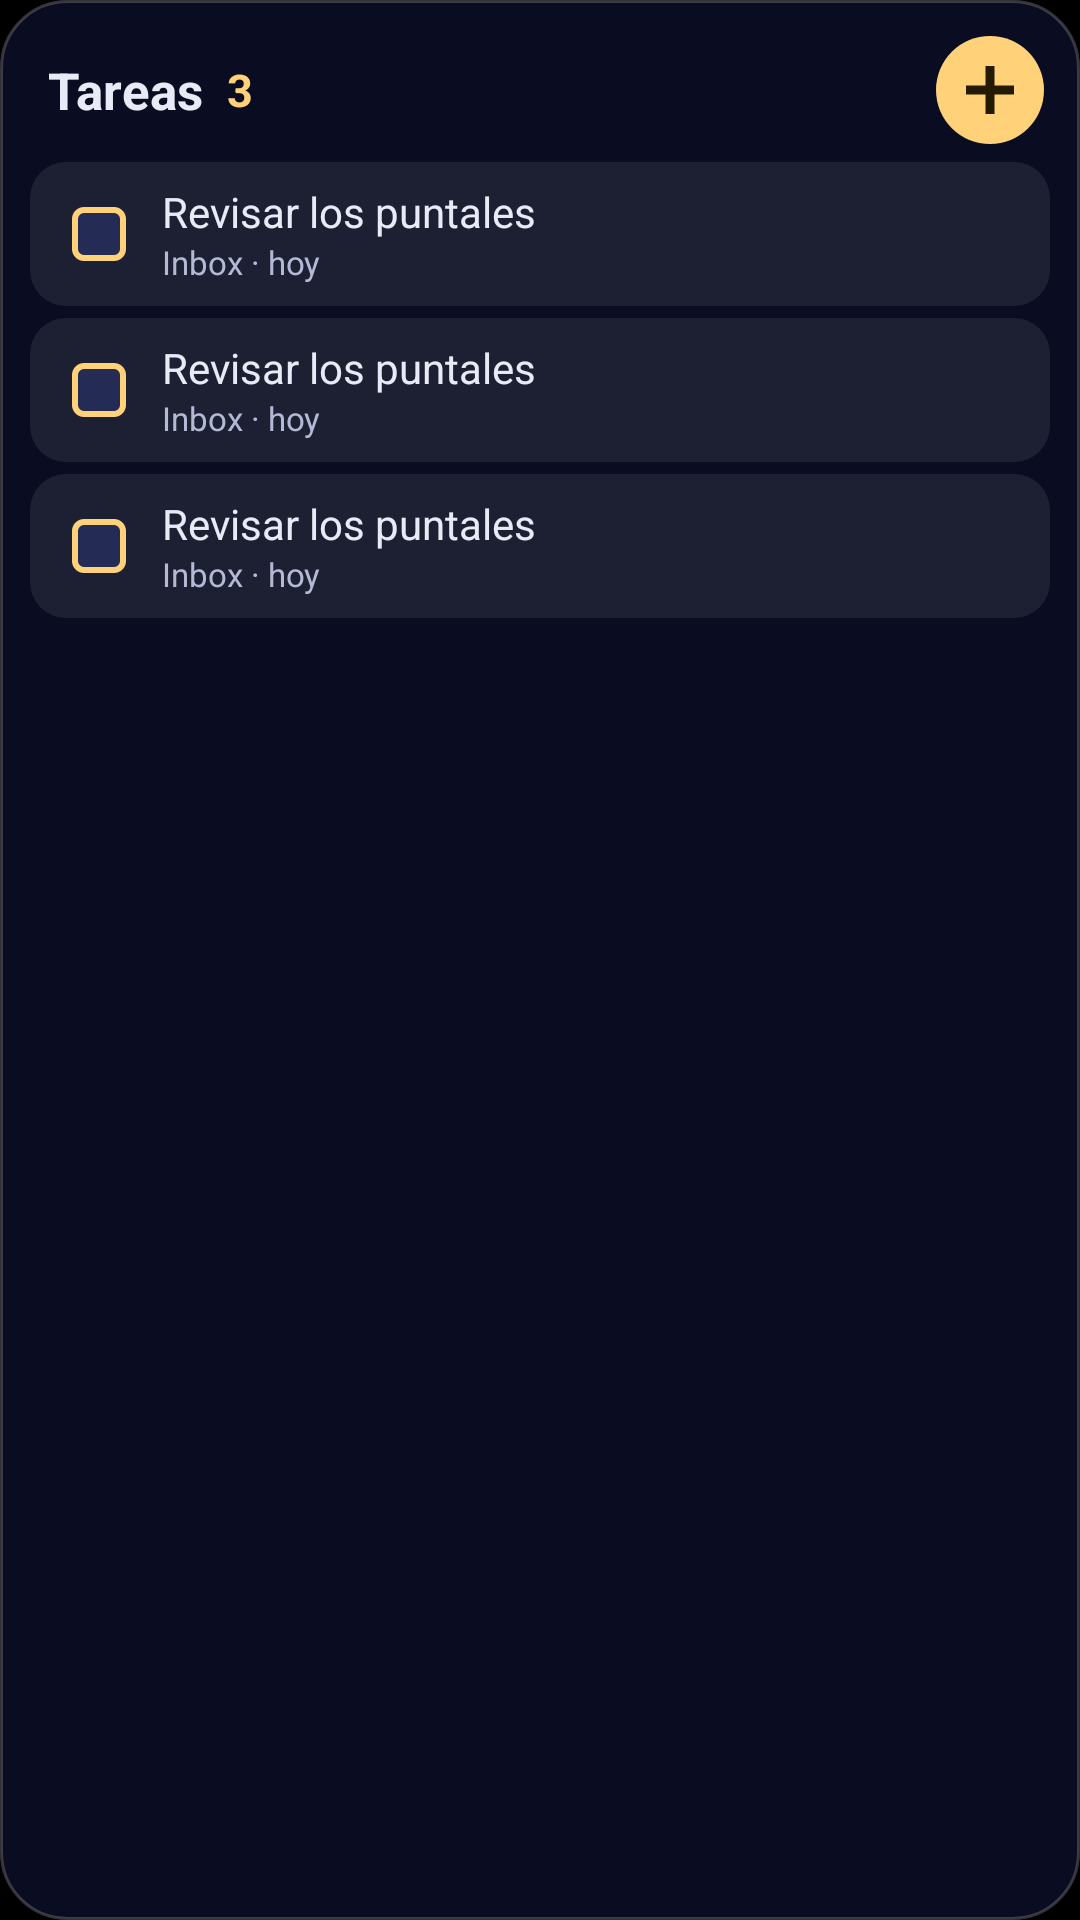

Where to tap for icons on this 1080px x 1920px app screen, as [x,y]:
widget casilla: [99,234], [99,390], [99,546]
widget mas: [990,90]
